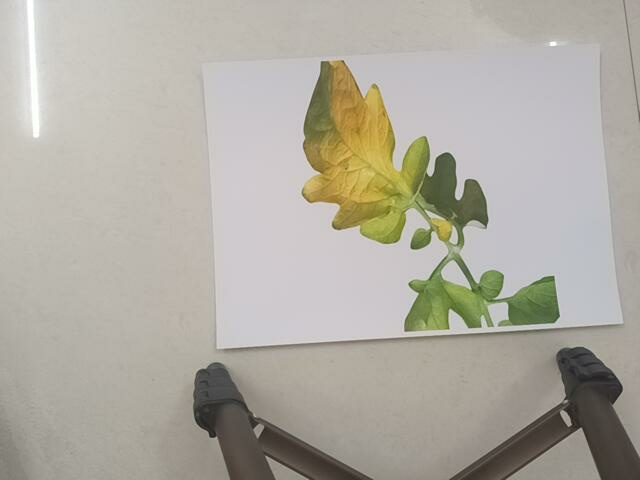Tomamto_Yellow_Disease: (287, 56, 591, 328)
